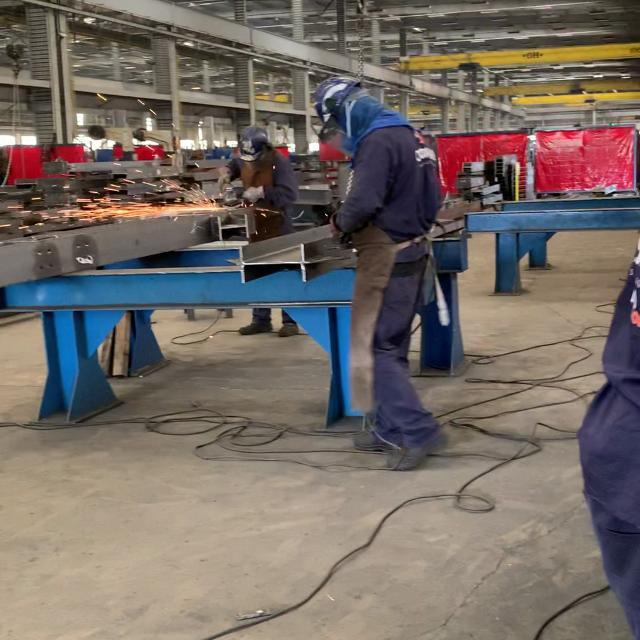face-shield: (319, 86, 361, 157)
helmet: (315, 77, 359, 107)
person: (315, 76, 444, 474)
safety-shoe: (387, 429, 448, 470), (353, 426, 403, 455)
